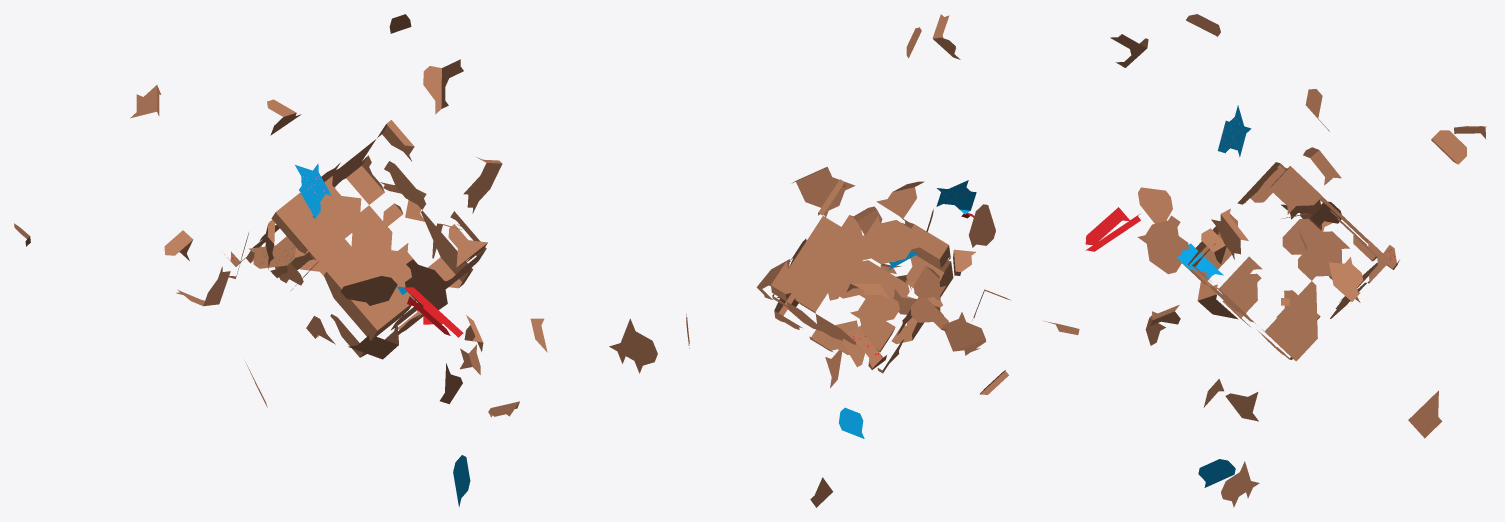
Rendered from explode_000096.obj.
3 views of the same model, side by side, from view 1: azimuth 30°, elevation 25°; view 2: azimuth 150°, elevation 25°; view 3: azimuth 270°, elevation 25° (orthographic). The views are drawn at different scales.
Visible parts, largest first — view 1: Cube_Cube.001; view 2: Cube_Cube.001; view 3: Cube_Cube.001.
Part boxes in pixels (x1,y1,x2,y2): Cube_Cube.001: (14,14,657,507); Cube_Cube.001: (686,14,1010,507); Cube_Cube.001: (1043,14,1486,507).
Size of the model in its own units: 7.55 by 7.17 by 6.51.
